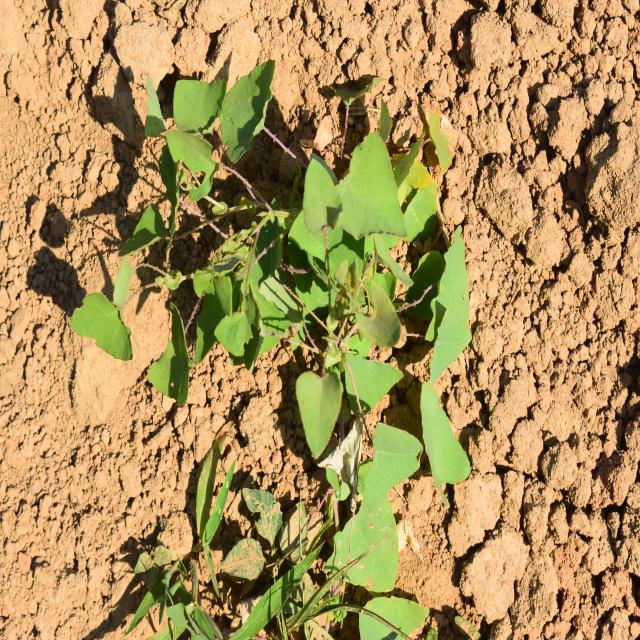Asiatic_Smartweed: (70, 57, 286, 384), (291, 156, 470, 499)
